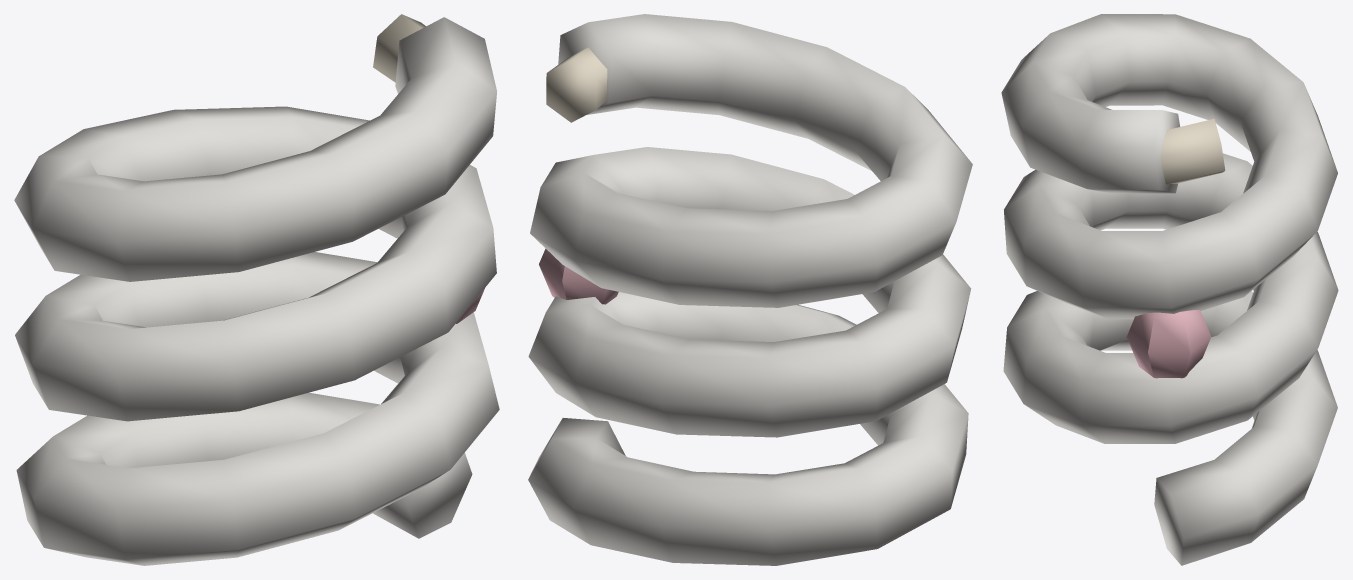
File: hand_wrap_3.glb
The picture shows the model from 3 angles, left to right: view 1: azimuth 30°, elevation 25°; view 2: azimuth 150°, elevation 25°; view 3: azimuth 270°, elevation 25°; orthographic projection. The views are drawn at different scales.
Visible parts, largest first — view 1: hand_wrap_3; view 2: hand_wrap_3; view 3: hand_wrap_3.
Boxes of the visible parts, x1,y1,x2,y2 form: hand_wrap_3: (14, 14, 499, 565); hand_wrap_3: (528, 14, 972, 565); hand_wrap_3: (1001, 14, 1338, 565).
Size of what is drawn, in the model's own units: 0.1 by 0.11 by 0.075.
